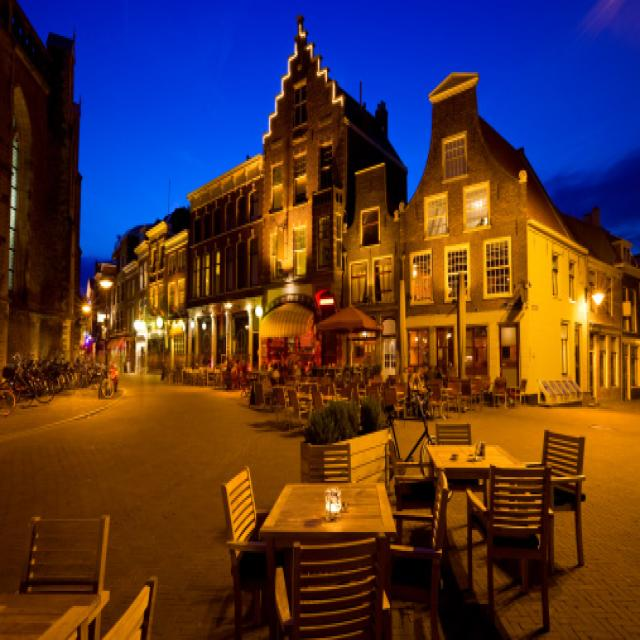Table: (260, 467, 397, 571), (421, 429, 545, 501)
chair: (16, 498, 135, 619), (270, 522, 392, 640), (469, 452, 555, 615), (218, 455, 280, 637), (400, 472, 453, 611), (539, 418, 595, 546), (293, 422, 355, 497), (383, 407, 433, 496)
